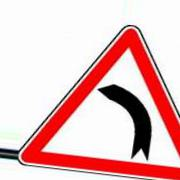left: (18, 24, 179, 173)
